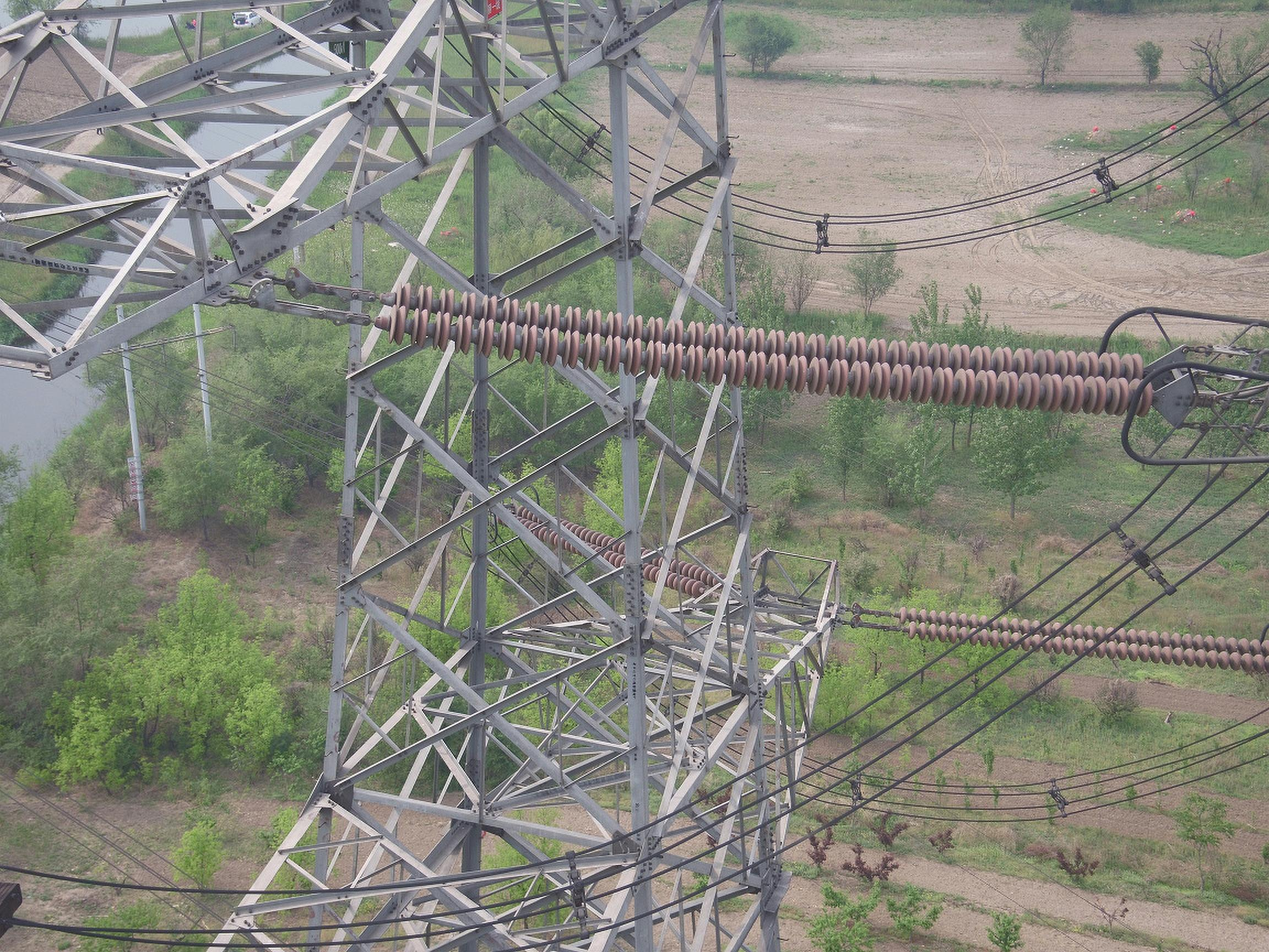insulator: (382, 277, 1157, 421), (895, 604, 1269, 675), (493, 503, 728, 598)
